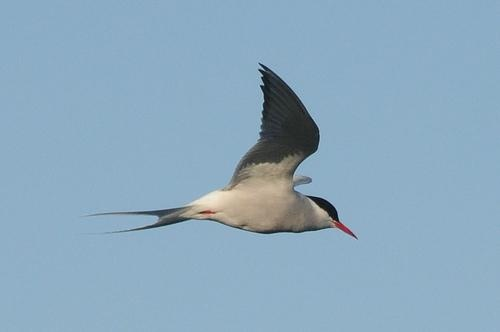bird: (71, 62, 362, 246)
